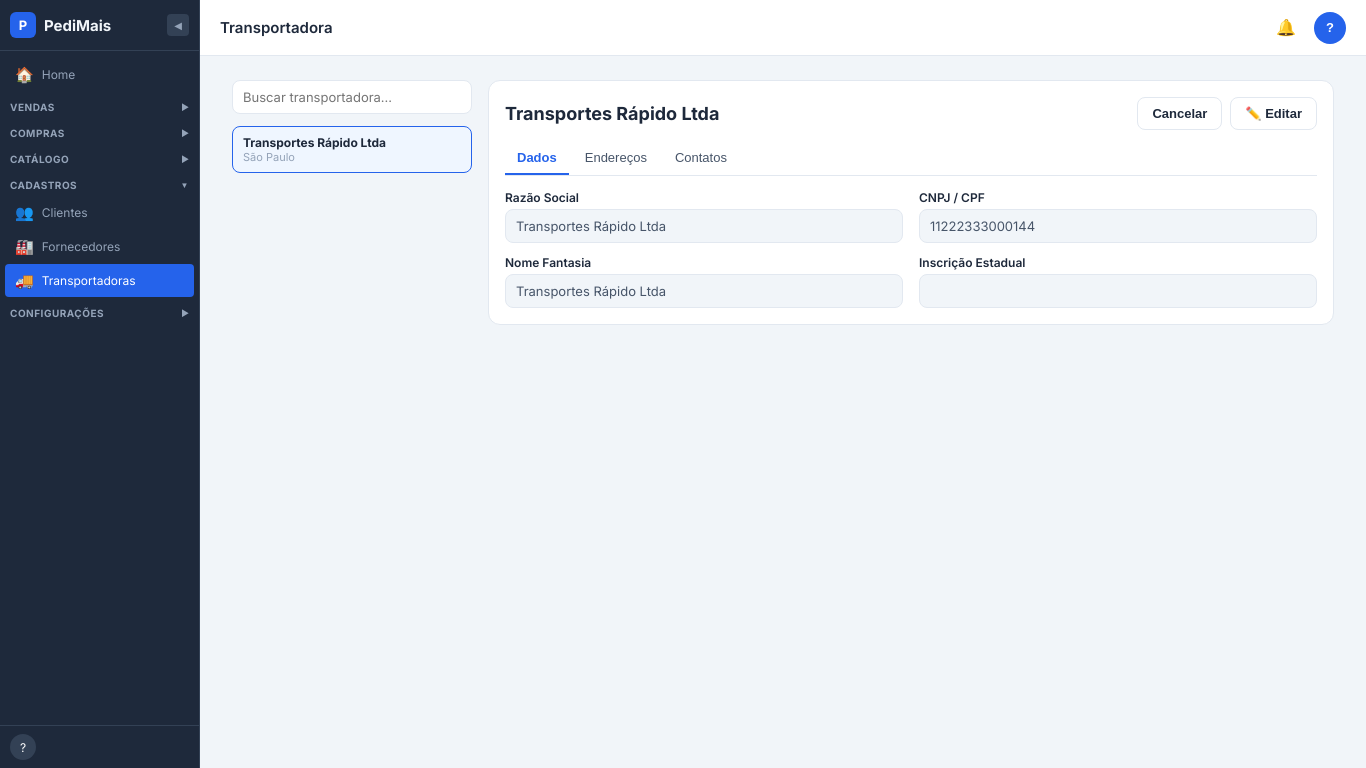
it: TransportadoraDetailView › shows the address on the Endereços tab
Click the button with class "tab" showing "Endereços". click: click(616, 158)
box: x1=573 y1=142 x2=659 y2=175
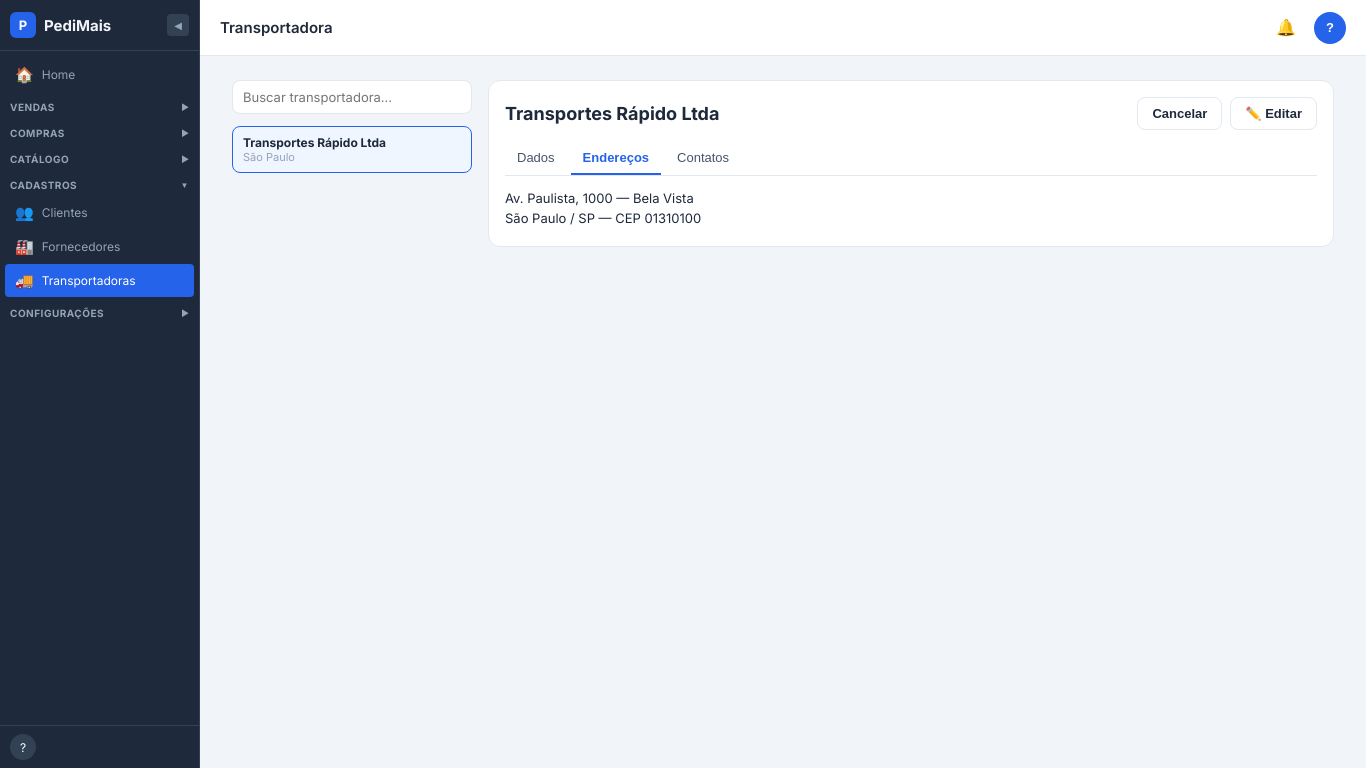
expect the text "Av. Paulista, 1000" is shown: met, box x1=505 y1=190 x2=694 y2=206
expect the text "São Paulo / SP" is shown: met, box x1=505 y1=210 x2=701 y2=226
